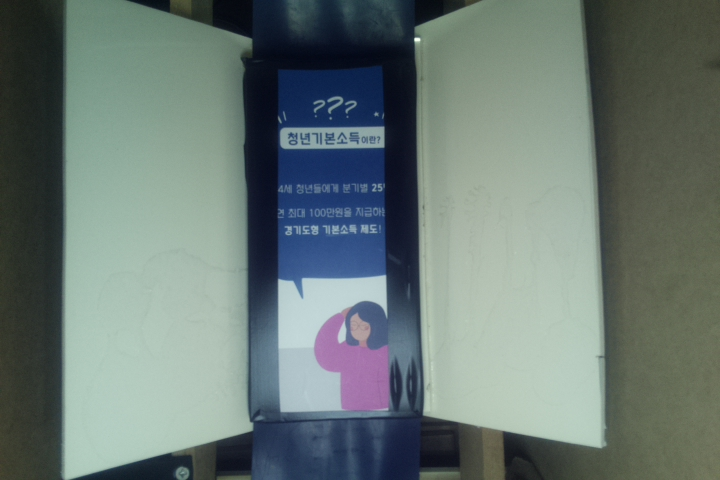book: (243, 44, 421, 424)
